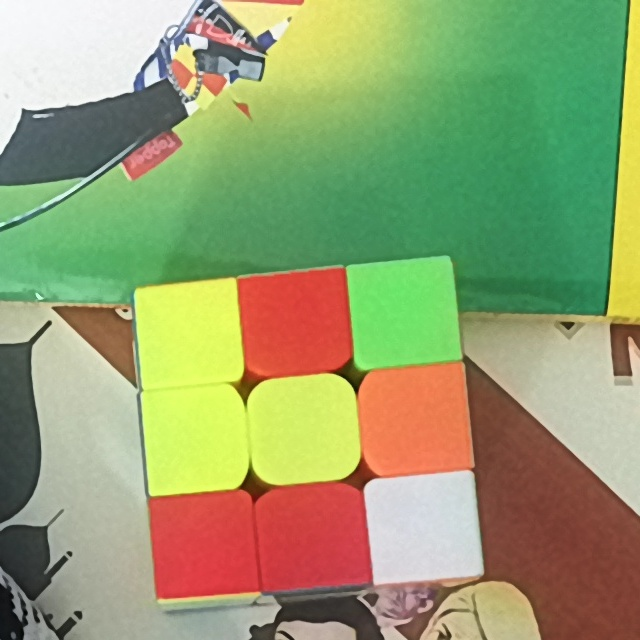tile: (159, 502, 248, 591), (361, 267, 449, 357), (150, 394, 240, 482), (270, 493, 360, 580), (373, 375, 459, 466), (252, 278, 341, 364), (377, 486, 468, 570), (259, 391, 347, 475), (145, 292, 228, 377)
